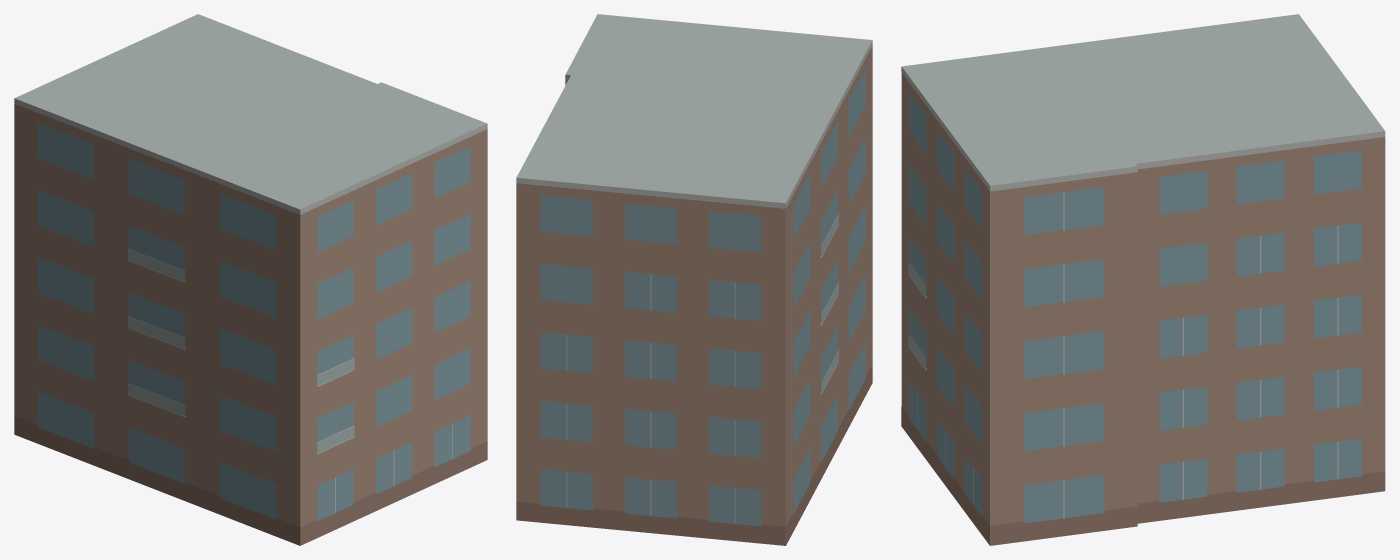
Rendered from survey-upis-32610663.glb.
3 renders of one model, left to right at view 1: azimuth 30°, elevation 25°; view 2: azimuth 150°, elevation 25°; view 3: azimuth 270°, elevation 25°, orthographic. The views are drawn at different scales.
Visible parts, largest first — view 1: survey-upis-32610663.tmp; view 2: survey-upis-32610663.tmp; view 3: survey-upis-32610663.tmp.
Part boxes in pixels (left/top/right/bottom): survey-upis-32610663.tmp: left=14, top=14, right=487, bottom=545; survey-upis-32610663.tmp: left=516, top=14, right=872, bottom=545; survey-upis-32610663.tmp: left=901, top=14, right=1385, bottom=545.
Bounding box in the file's own units: 15.63 × 15.25 × 18.58.
